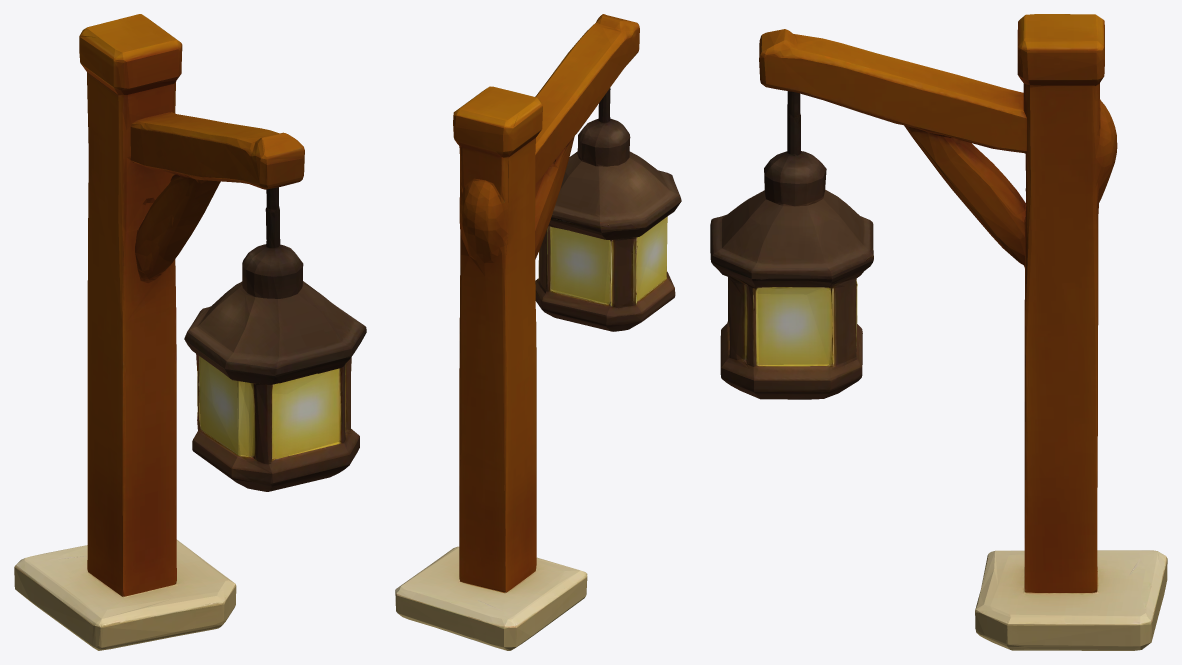
The model's file is hanging_street_light.glb.
3 renders of one model, left to right at view 1: azimuth 30°, elevation 25°; view 2: azimuth 150°, elevation 25°; view 3: azimuth 270°, elevation 25°, orthographic. The views are drawn at different scales.
Parts seen in each view (by area): view 1: geometry_0; view 2: geometry_0; view 3: geometry_0.
Part boxes in pixels (box(x1,y1,x2,y2)): geometry_0: box(14, 14, 366, 650); geometry_0: box(395, 14, 681, 650); geometry_0: box(710, 14, 1167, 650).
Bounding box in the file's own units: 0.2733 × 0.9987 × 0.7012.
1 material, 1 textured.
